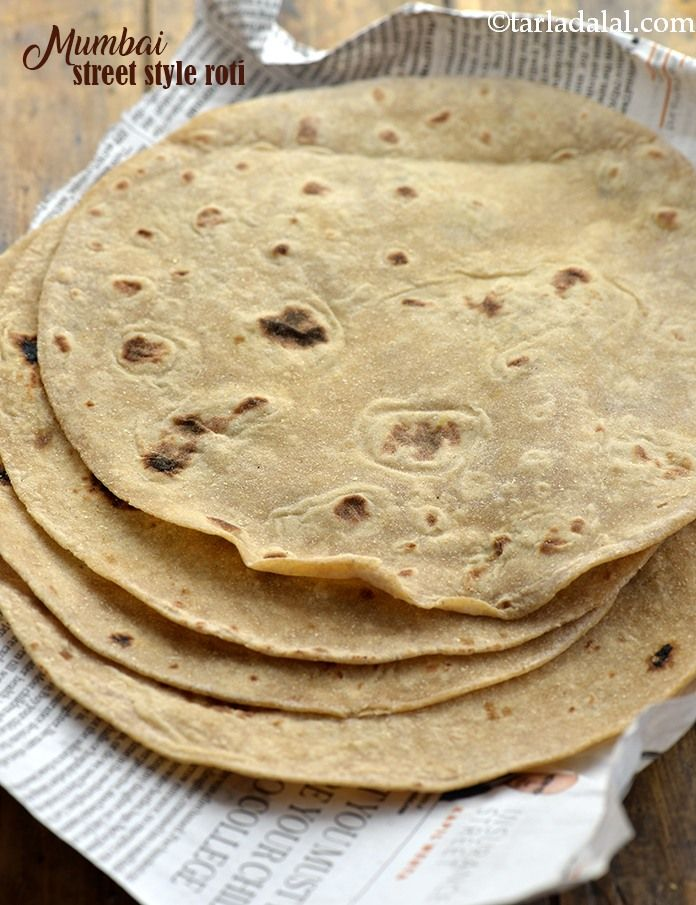roti: (17, 166, 662, 740)
